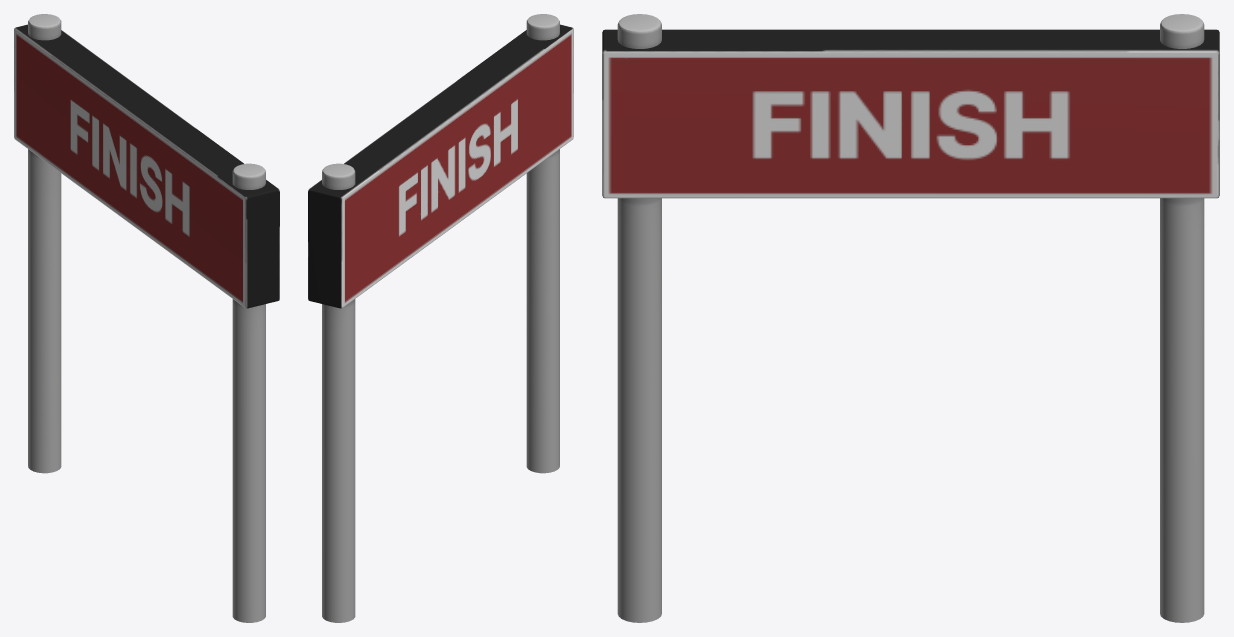
Rendered from YutNori_FinishLine.fbx.
3 renders of one model, left to right at view 1: azimuth 30°, elevation 25°; view 2: azimuth 150°, elevation 25°; view 3: azimuth 270°, elevation 25°, orthographic. The views are drawn at different scales.
Visible parts, largest first — view 1: YutNori_FinishLine; view 2: YutNori_FinishLine; view 3: YutNori_FinishLine.
Part boxes in pixels (bbox=[...]): YutNori_FinishLine: bbox=[14, 14, 279, 622]; YutNori_FinishLine: bbox=[308, 14, 573, 622]; YutNori_FinishLine: bbox=[602, 14, 1219, 622].
Bounding box in the file's own units: 0.6165 × 7.62 × 7.2.
